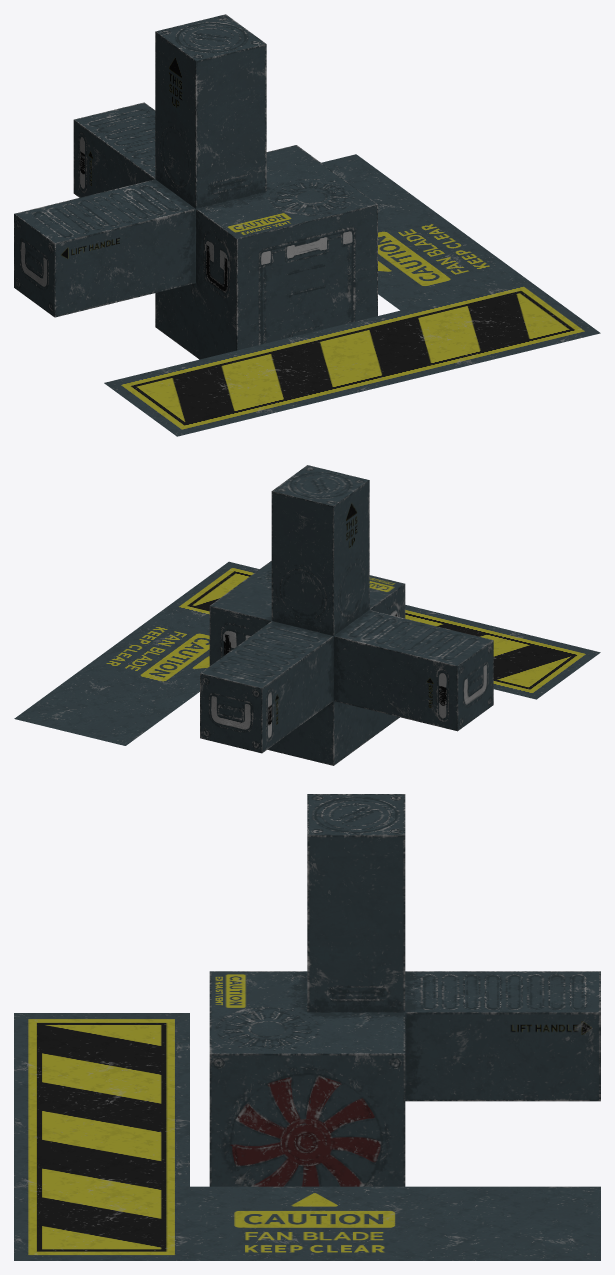
File: Node_Attribute_00.gltf
3 views of the same model, one above another, from view 1: azimuth 30°, elevation 25°; view 2: azimuth 150°, elevation 25°; view 3: azimuth 270°, elevation 25° (orthographic). The views are drawn at different scales.
Visible parts, largest first — view 1: Node1, Node0; view 2: Node1, Node0; view 3: Node1, Node0.
Boxes of the visible parts, bbox=[...] form: Node1: bbox=[14, 14, 377, 359]; Node0: bbox=[104, 154, 600, 436]; Node1: bbox=[200, 465, 493, 765]; Node0: bbox=[14, 561, 600, 745]; Node1: bbox=[209, 794, 600, 1186]; Node0: bbox=[14, 1013, 600, 1260].
Bounding box in the file's own units: 15 × 10 × 15.
Materials: 2 (2 with a texture image).
